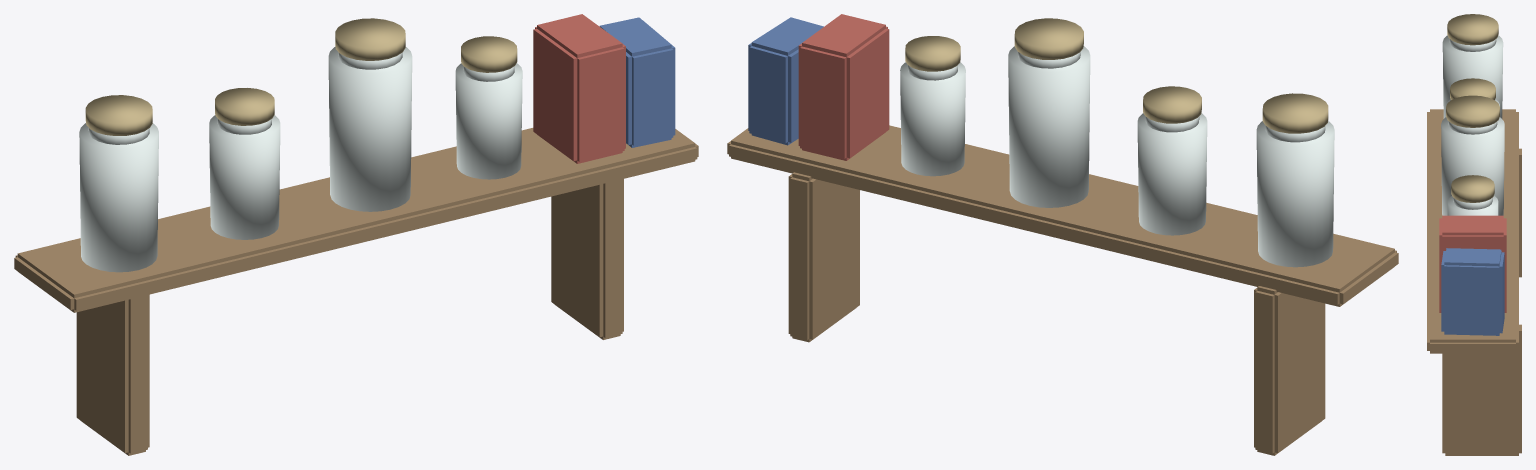
The model's file is shelf_jars.glb.
The picture shows the model from 3 angles, left to right: view 1: azimuth 30°, elevation 25°; view 2: azimuth 150°, elevation 25°; view 3: azimuth 270°, elevation 25°; orthographic projection. The views are drawn at different scales.
Visible parts, largest first — view 1: Shelf, Jar2, BookA, Jar0, Bracket-1, Bracket1, Jar1, Jar3, BookB, Lid2, Lid0, Lid1 (+1 smaller); view 2: Shelf, BookA, Jar2, Bracket1, Bracket-1, Jar0, Jar1, Jar3, BookB, Lid2, Lid0, Lid1 (+1 smaller); view 3: Bracket1, Shelf, BookB, Jar2, BookA, Jar0, Lid2, Lid0, Lid3, Lid1, Jar3, Bracket-1 (+3 smaller).
Part boxes in pixels (box(x1,y1,x2,y2)): Shelf: box(14, 128, 698, 312); Jar2: box(328, 47, 412, 211); BookA: box(533, 14, 625, 163); Jar0: box(79, 123, 158, 272); Bracket-1: box(76, 294, 149, 455); Bracket1: box(551, 179, 623, 339); Jar1: box(209, 115, 280, 239); Jar3: box(455, 63, 522, 179); BookB: box(599, 17, 675, 147); Lid2: box(335, 18, 405, 60); Lid0: box(85, 95, 152, 135); Lid1: box(215, 88, 274, 125); Shelf: box(727, 125, 1398, 306); BookA: box(798, 14, 889, 160); Jar2: box(1008, 46, 1090, 207); Bracket1: box(788, 172, 859, 342); Bracket-1: box(1254, 286, 1325, 455); Jar0: box(1256, 121, 1334, 267); Jar1: box(1137, 113, 1207, 235); Jar3: box(900, 62, 965, 176); BookB: box(748, 17, 823, 145); Lid2: box(1014, 18, 1083, 59); Lid0: box(1262, 93, 1328, 133); Lid1: box(1143, 86, 1201, 123); Bracket1: box(1442, 324, 1521, 455); Shelf: box(1427, 109, 1518, 353); BookB: box(1441, 248, 1504, 335); Jar2: box(1441, 117, 1504, 215); BookA: box(1439, 215, 1506, 312); Jar0: box(1442, 35, 1503, 118); Lid2: box(1446, 95, 1499, 127); Lid0: box(1447, 14, 1498, 45); Lid3: box(1451, 175, 1494, 202); Lid1: box(1450, 78, 1495, 99); Jar3: box(1447, 196, 1498, 215); Bracket-1: box(1519, 148, 1521, 277).
Bounding box in the file's own units: 1.8 × 0.9475 × 0.31.
